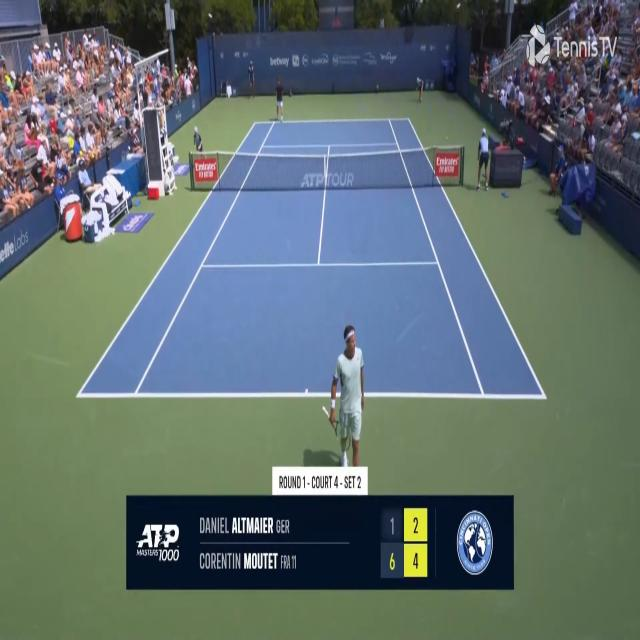tennis-player: (320, 320, 368, 489), (273, 76, 287, 124)
